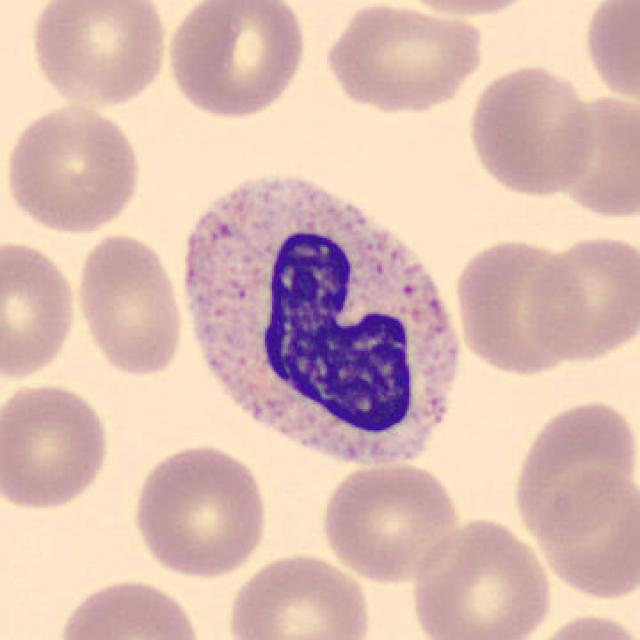Neutrophil: (169, 160, 469, 487)
RBC: (128, 439, 272, 580), (0, 99, 146, 236), (449, 235, 586, 378), (318, 0, 487, 115), (508, 395, 636, 545), (464, 60, 599, 201), (316, 457, 464, 585), (409, 515, 556, 640), (163, 0, 310, 122), (71, 229, 189, 379), (24, 0, 172, 109), (519, 231, 638, 365), (0, 379, 114, 515), (530, 464, 638, 603), (224, 550, 375, 640), (546, 90, 638, 222), (0, 236, 80, 383), (54, 575, 204, 640), (580, 0, 638, 108), (524, 610, 638, 640), (393, 0, 547, 18)
